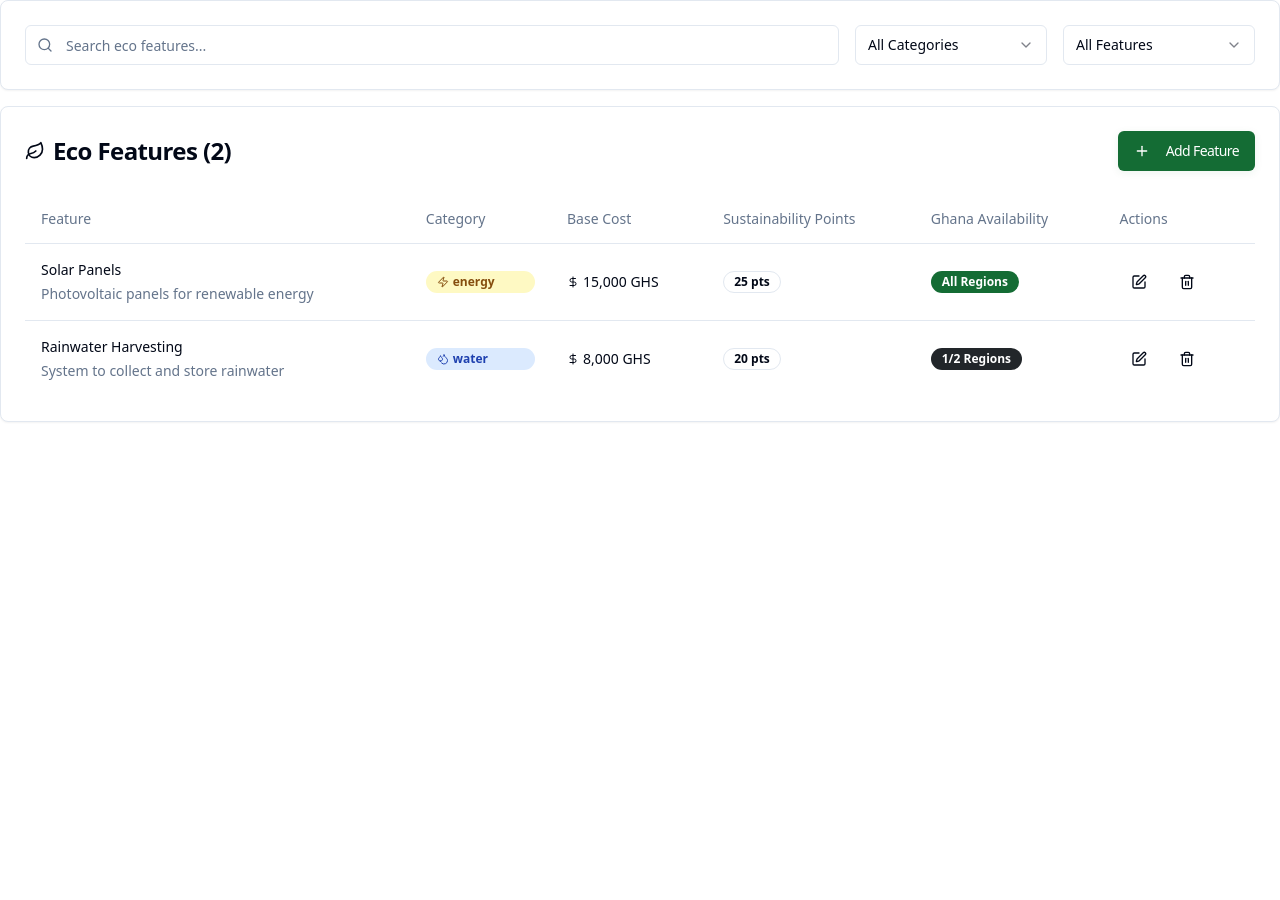
Test: EcoFeatureManagement › should open add feature dialog
Click the button "Add Feature": (1186, 151) [1118,131,1255,171]
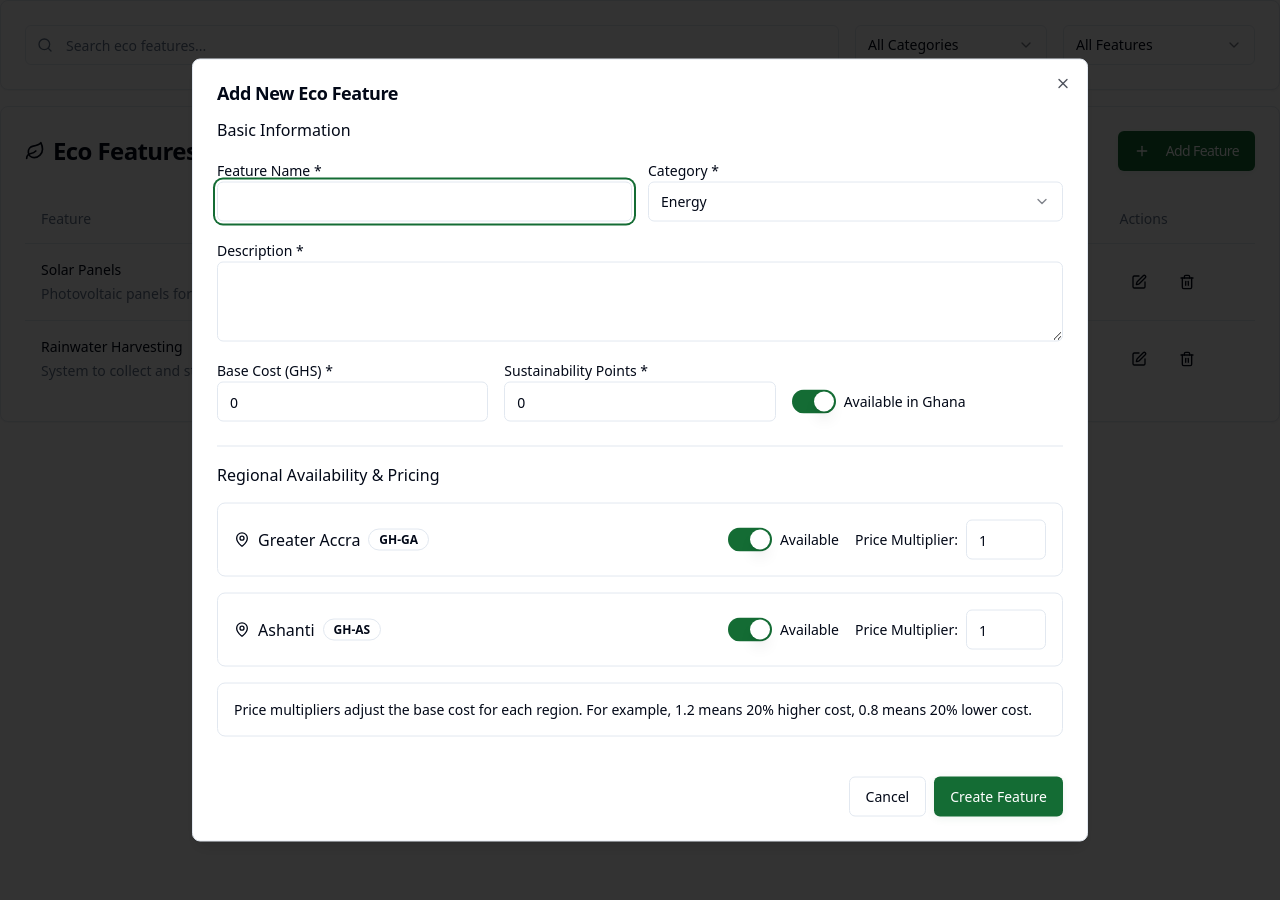
Now the heading "Add New Eco Feature" is shown, box [217,80,398,104]
Now the field labelled "Feature Name *" is shown, box [217,182,632,222]
